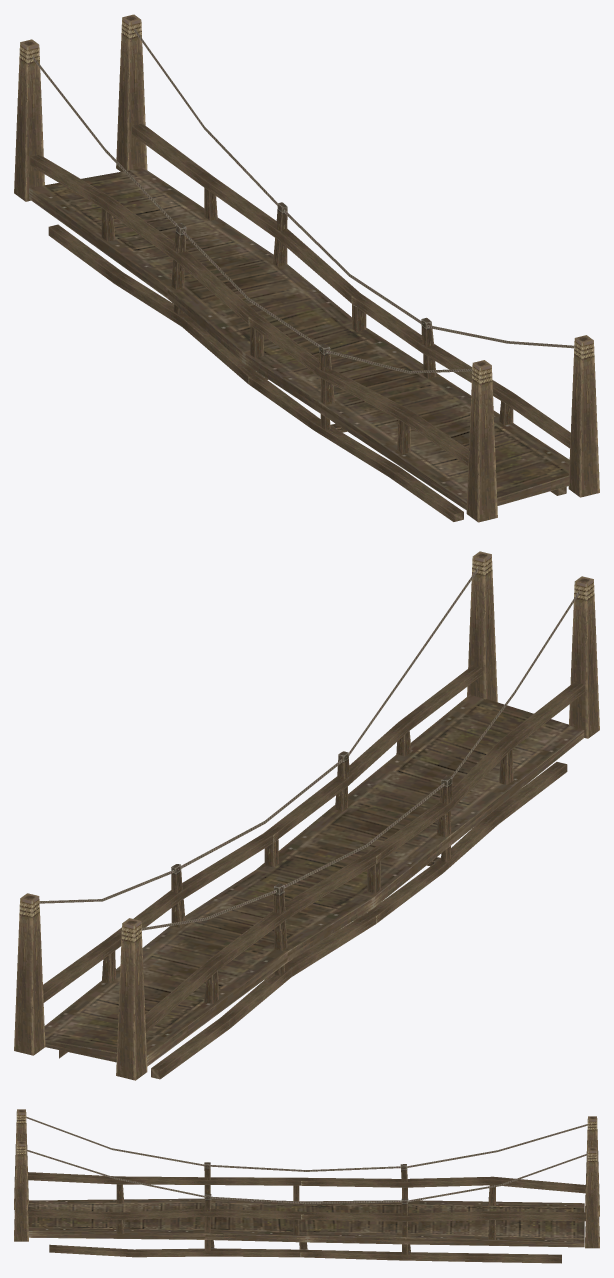
3 renders of one model, top to bottom at view 1: azimuth 30°, elevation 25°; view 2: azimuth 150°, elevation 25°; view 3: azimuth 270°, elevation 25°, orthographic. The views are drawn at different scales.
Parts seen in each view (by area): view 1: OM_09_sn_T04br01A; view 2: OM_09_sn_T04br01A; view 3: OM_09_sn_T04br01A.
Part boxes in pixels (left/top/right/bottom): OM_09_sn_T04br01A: left=14, top=14, right=599, bottom=522; OM_09_sn_T04br01A: left=14, top=551, right=599, bottom=1080; OM_09_sn_T04br01A: left=14, top=1109, right=599, bottom=1263.
Size of the model in its own units: 2.39 by 3.44 by 15.33.
Materials: 2 (2 with a texture image).
